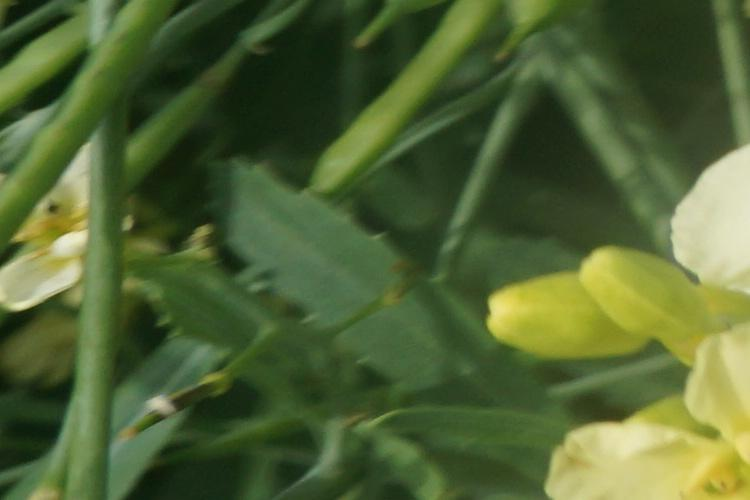bud: (570, 243, 722, 360), (478, 263, 653, 361)
